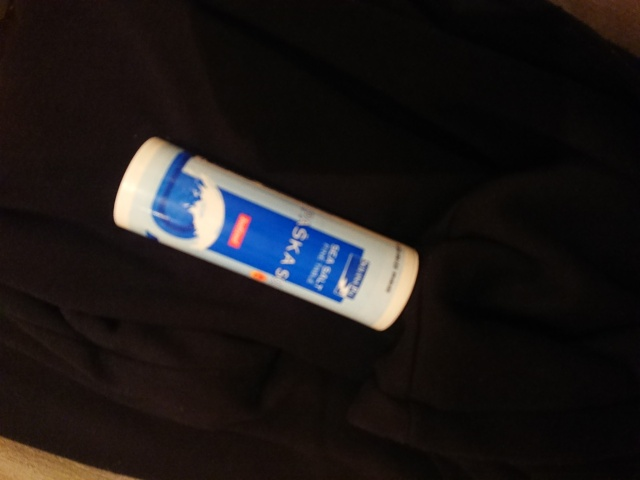Solana Pag Fine Sea Salt 250g: (108, 133, 423, 335)
